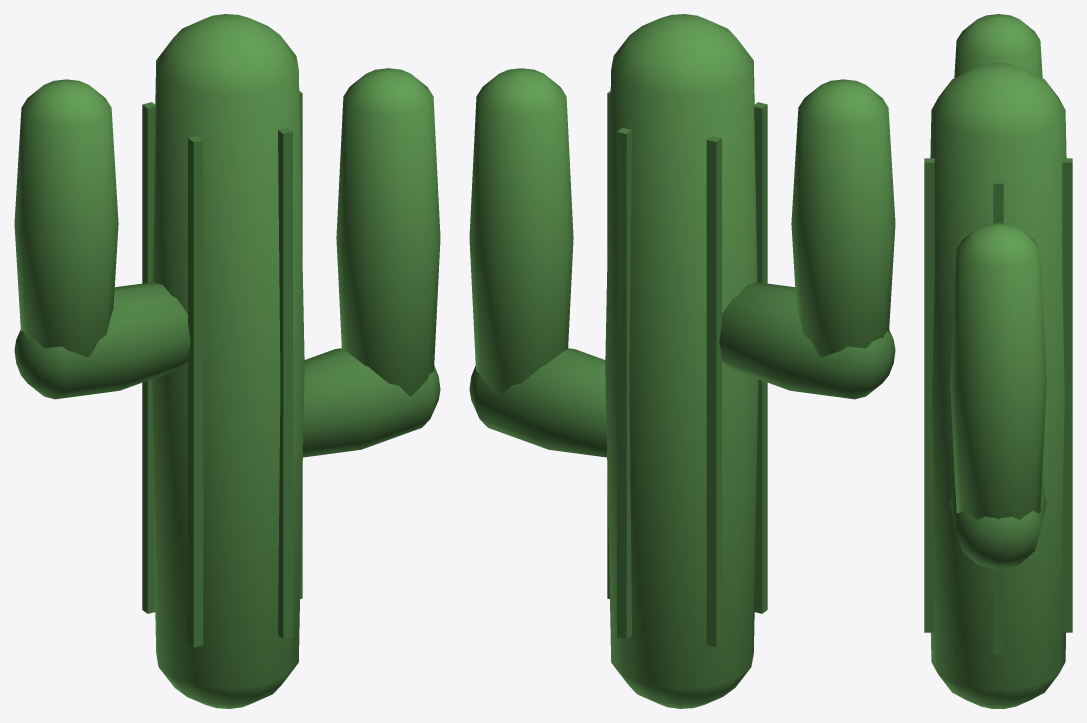
File: prop_tree_desert_0.glb
3 views of the same model, side by side, from view 1: azimuth 30°, elevation 25°; view 2: azimuth 150°, elevation 25°; view 3: azimuth 270°, elevation 25° (orthographic). The views are drawn at different scales.
Visible parts, largest first — view 1: Stem, Arm1, Arm-1, Elbow-1, Elbow1, Rib3, Rib4, Rib2; view 2: Stem, Arm1, Arm-1, Elbow-1, Elbow1, Rib2, Rib1, Rib3; view 3: Stem, Arm1, Rib1, Rib4, Elbow1, Arm-1, Rib0.
Part boxes in pixels (bbox=[...]): Stem: bbox=[151, 14, 304, 708]; Arm1: bbox=[336, 68, 440, 396]; Arm-1: bbox=[14, 79, 118, 356]; Elbow-1: bbox=[14, 282, 190, 399]; Elbow1: bbox=[303, 348, 440, 457]; Rib3: bbox=[188, 136, 203, 647]; Rib4: bbox=[278, 127, 292, 639]; Rib2: bbox=[142, 102, 155, 613]; Stem: bbox=[605, 14, 758, 708]; Arm1: bbox=[469, 68, 573, 396]; Arm-1: bbox=[791, 79, 895, 356]; Elbow-1: bbox=[719, 282, 895, 399]; Elbow1: bbox=[469, 348, 606, 457]; Rib2: bbox=[706, 136, 721, 647]; Rib1: bbox=[617, 127, 631, 639]; Rib3: bbox=[754, 102, 767, 613]; Stem: bbox=[930, 63, 1066, 708]; Arm1: bbox=[950, 223, 1046, 519]; Rib1: bbox=[1062, 158, 1072, 632]; Rib4: bbox=[924, 158, 934, 632]; Elbow1: bbox=[950, 483, 1046, 569]; Arm-1: bbox=[954, 14, 1042, 77]; Rib0: bbox=[993, 179, 1003, 653].
Bounding box in the file's own units: 2.56 × 4.04 × 0.8589.
